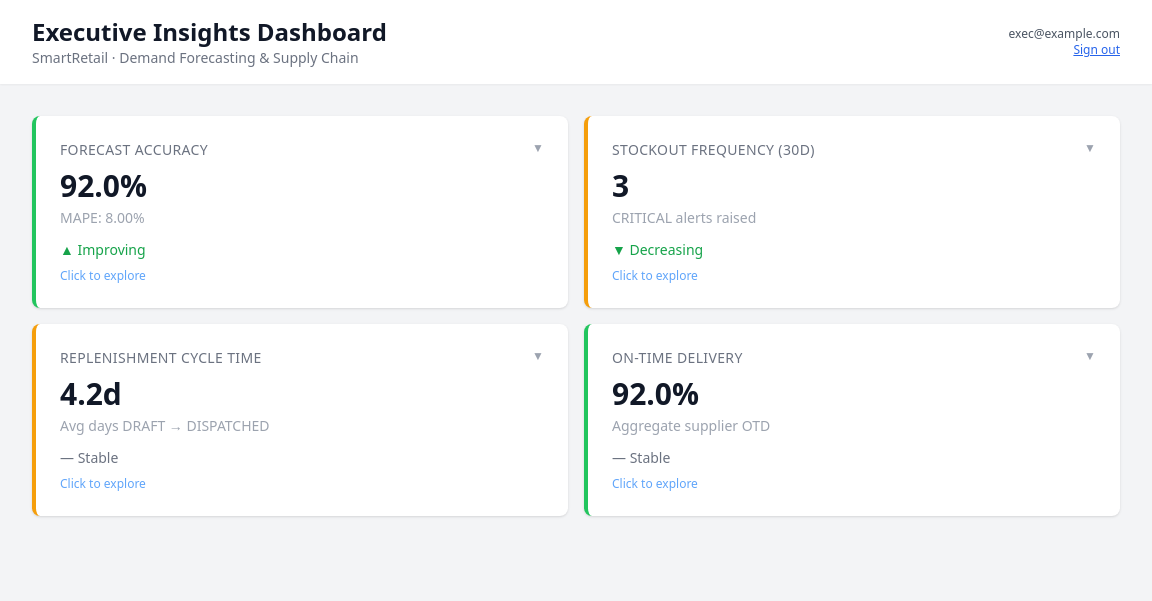
Test case: ExecutiveDashboard › collapses panel when same card is clicked again
Click the button "Forecast Accuracy".
click(134, 150)  # box top-left (32, 116), bottom-right (568, 308)
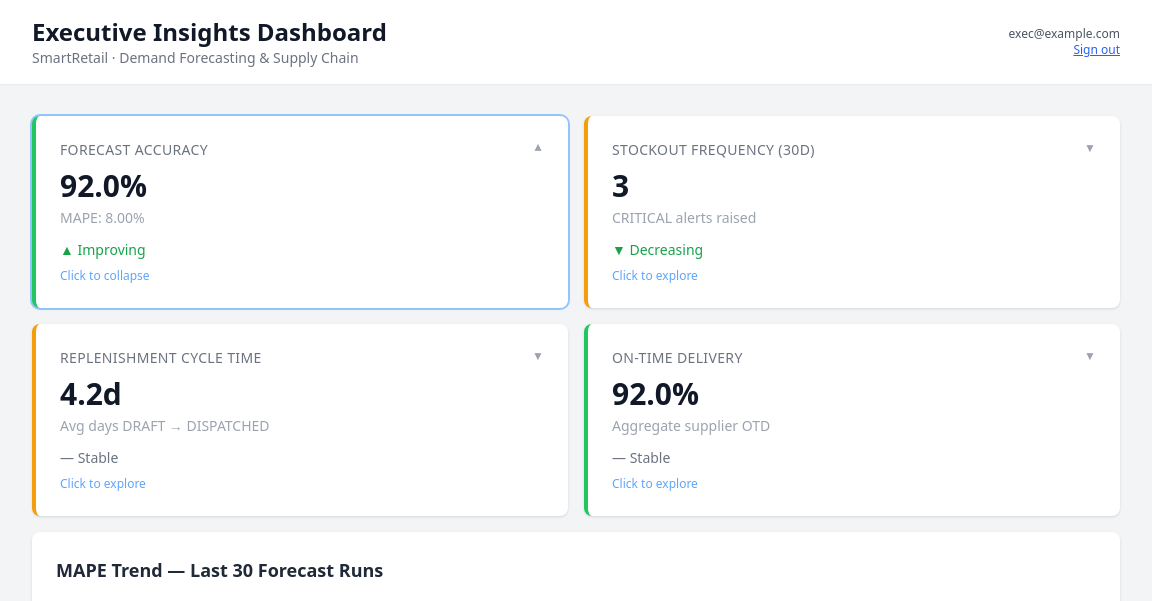
Result: the heading "MAPE Trend — Last 30 Forecast Runs" is shown at top-left (56, 558), bottom-right (383, 582)
Click the button "Forecast Accuracy".
click(134, 150)  # box top-left (32, 116), bottom-right (568, 308)
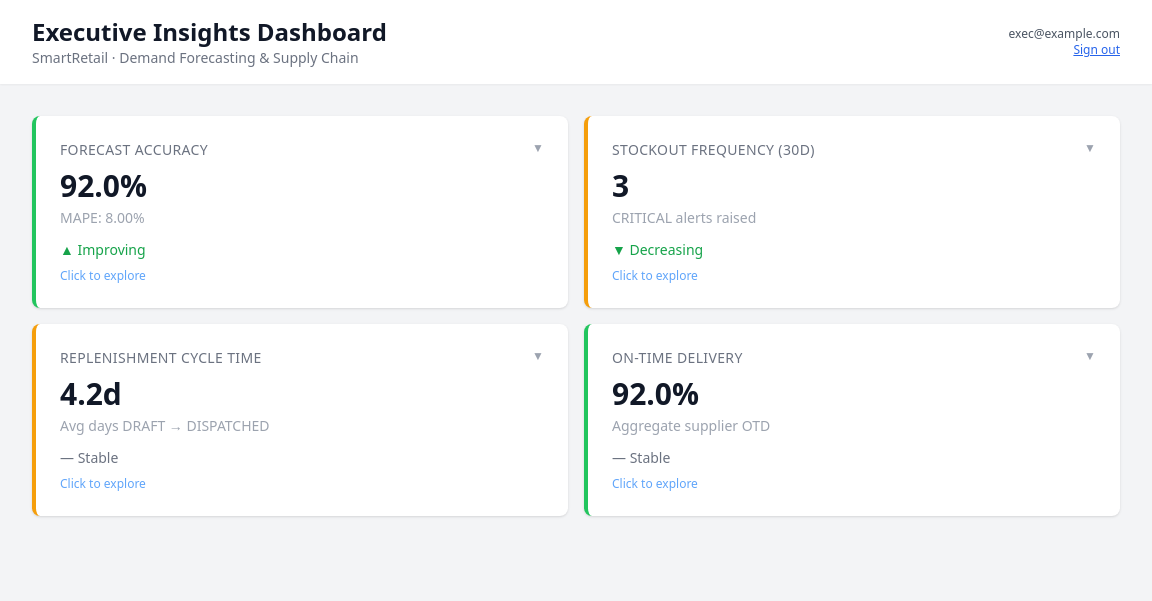
Result: the heading "MAPE Trend — Last 30 Forecast Runs" is gone
